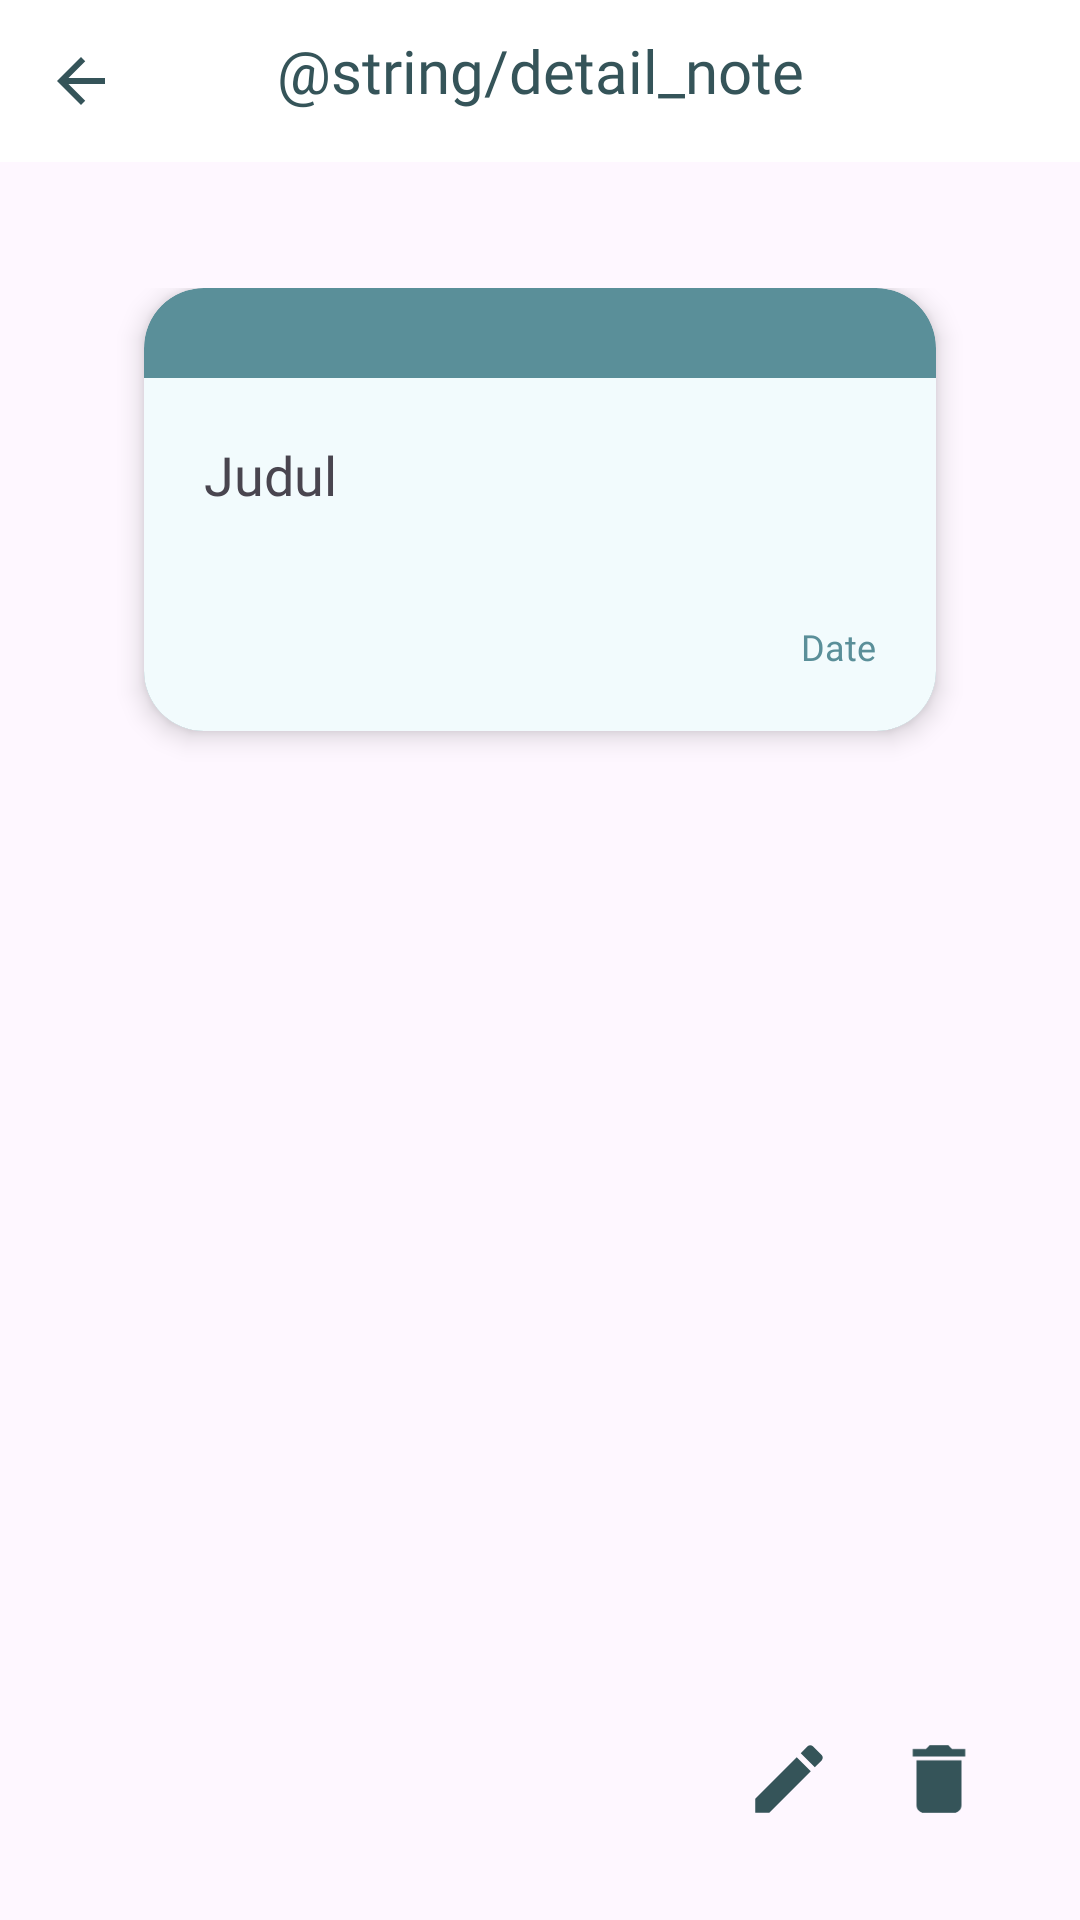

Point at icon controls on the screen. Image size 1080px x 1920px, points as [x,y].
create: [789,1779]
delete: [939,1779]
kembali: [81,81]
